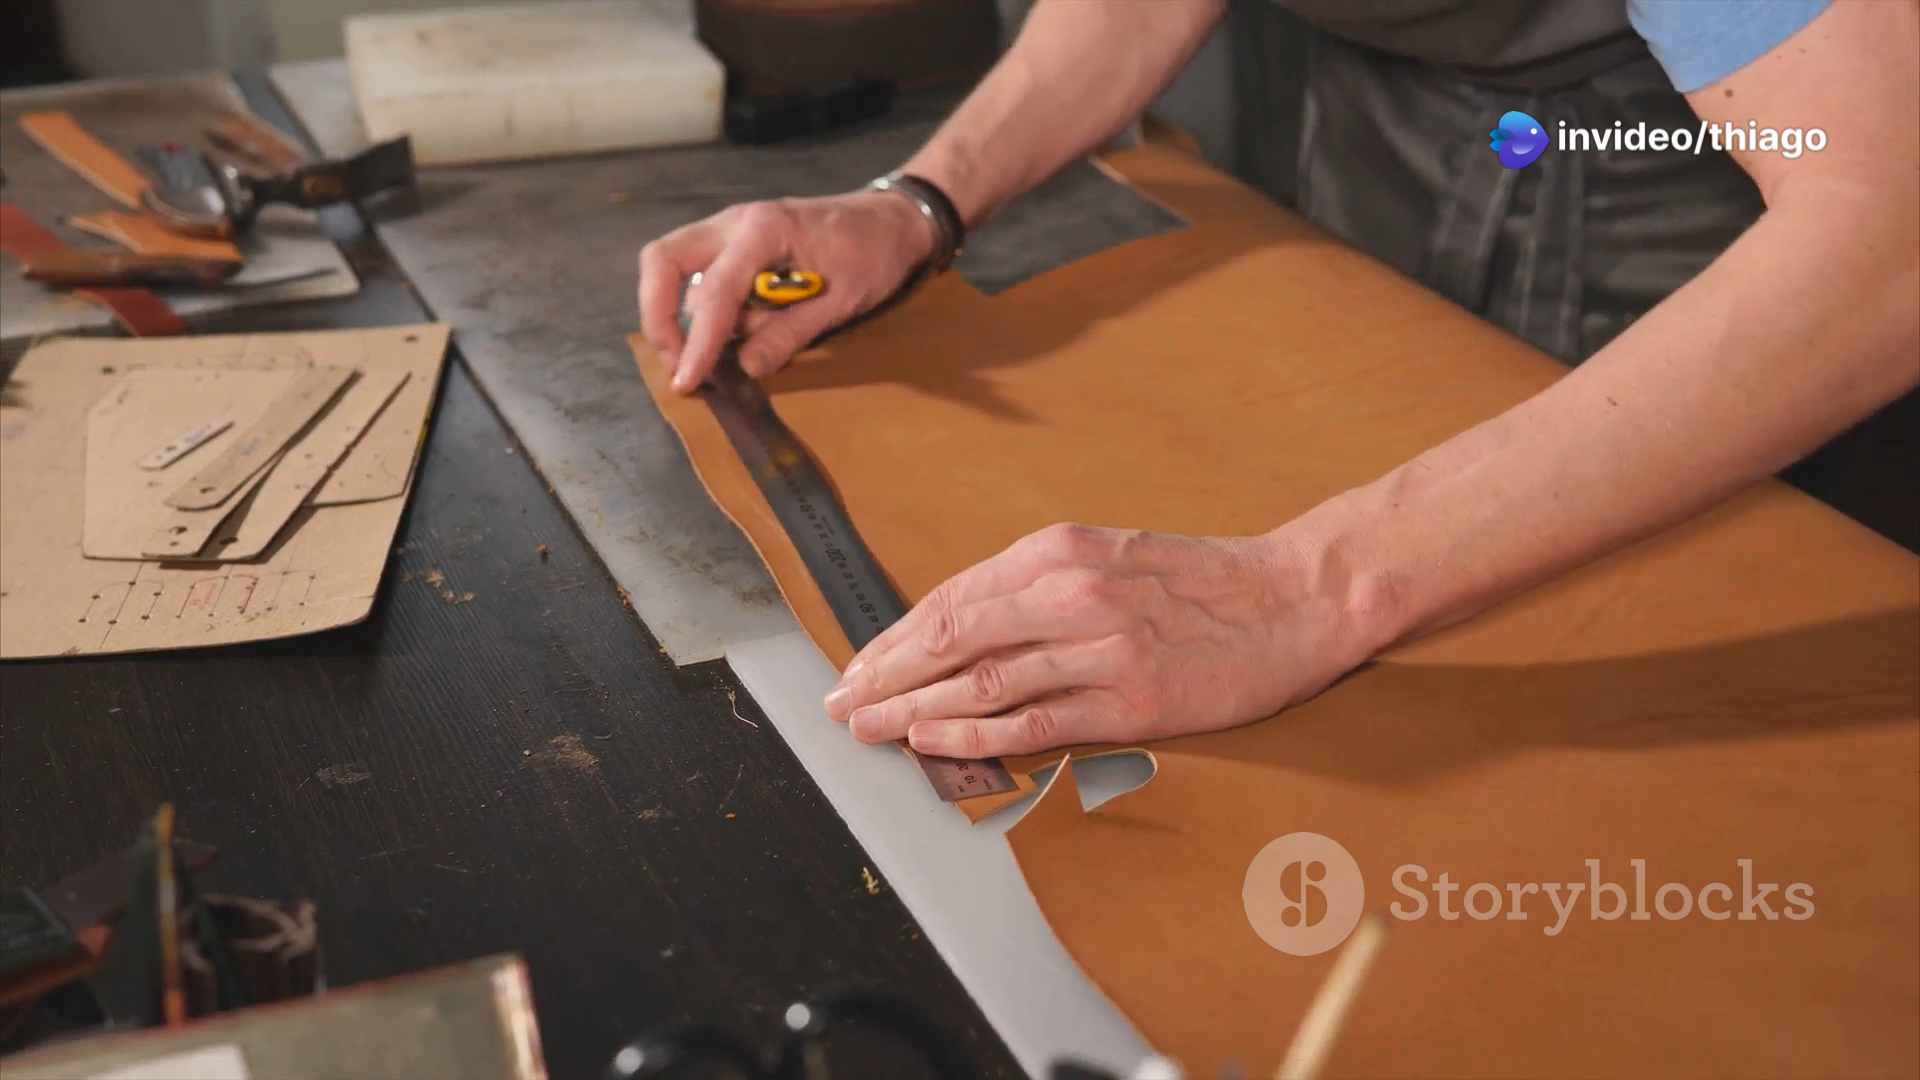cortante: (762, 270, 812, 297)
